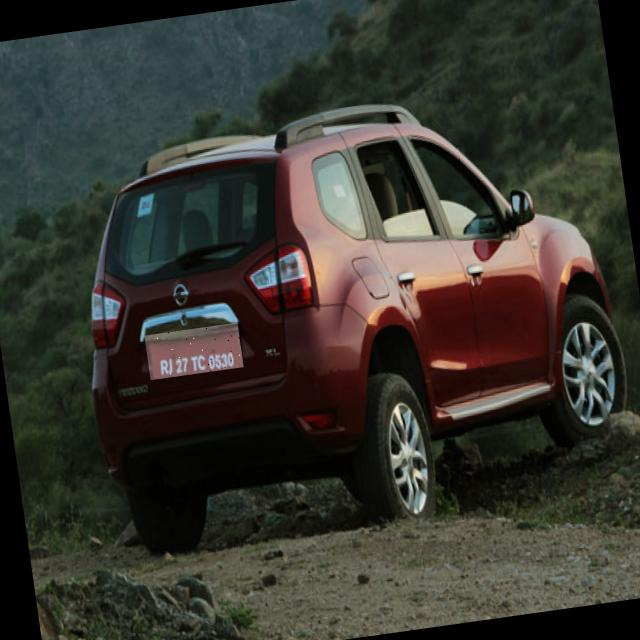Plate: (146, 324, 245, 382)
